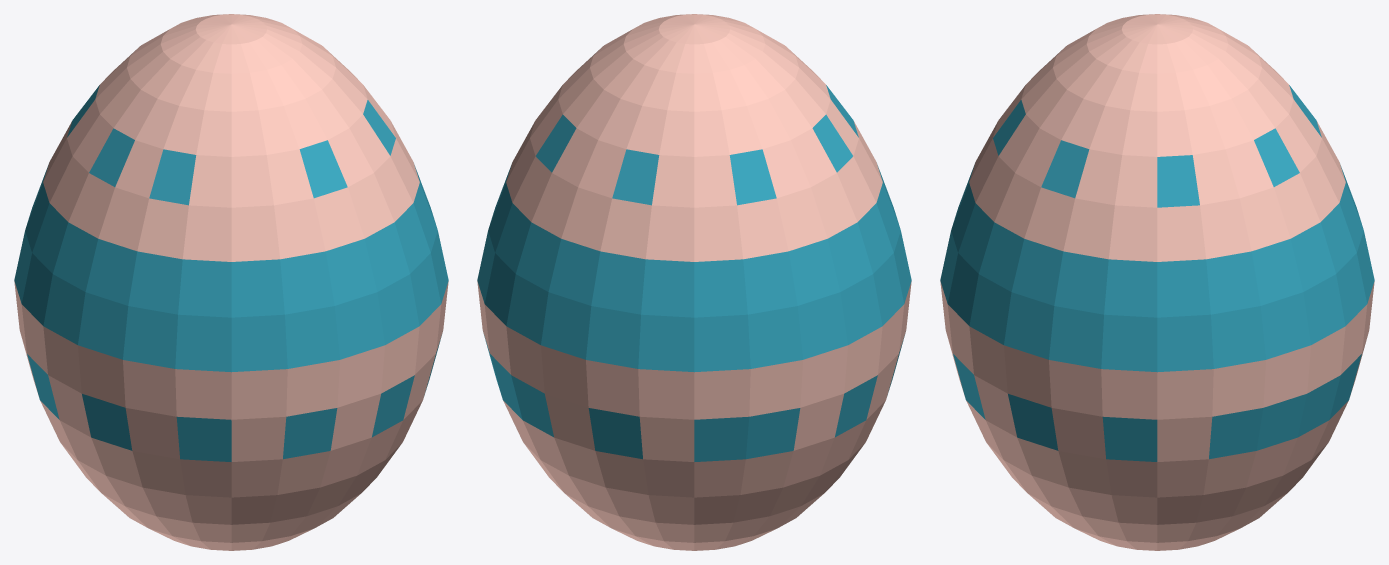
The model's file is Egg_seashell.fbx.
3 renders of one model, left to right at view 1: azimuth 30°, elevation 25°; view 2: azimuth 150°, elevation 25°; view 3: azimuth 270°, elevation 25°, orthographic.
Visible parts, largest first — view 1: Egg_seashell; view 2: Egg_seashell; view 3: Egg_seashell.
Part boxes in pixels (bbox=[...]): Egg_seashell: bbox=[14, 14, 448, 550]; Egg_seashell: bbox=[477, 14, 911, 550]; Egg_seashell: bbox=[940, 14, 1374, 550].
Size of the model in its own units: 28 by 36.4 by 28.
